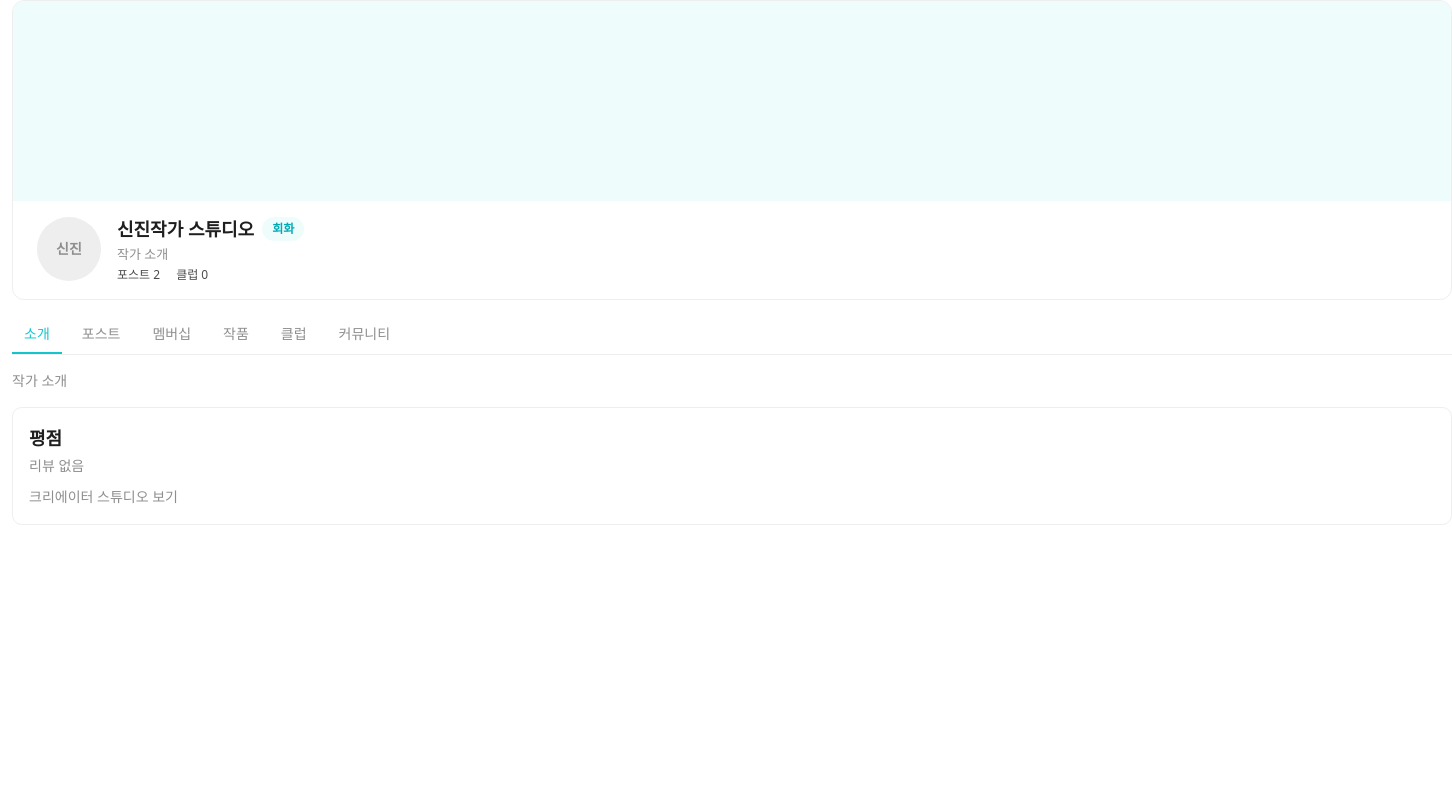
Test: /creators/[creatorId] (AC-002, AC-003, AC-007) › renders artworks tab and purchase form
Click the tab "작품". click: (236, 335)
box: [211,316,261,354]
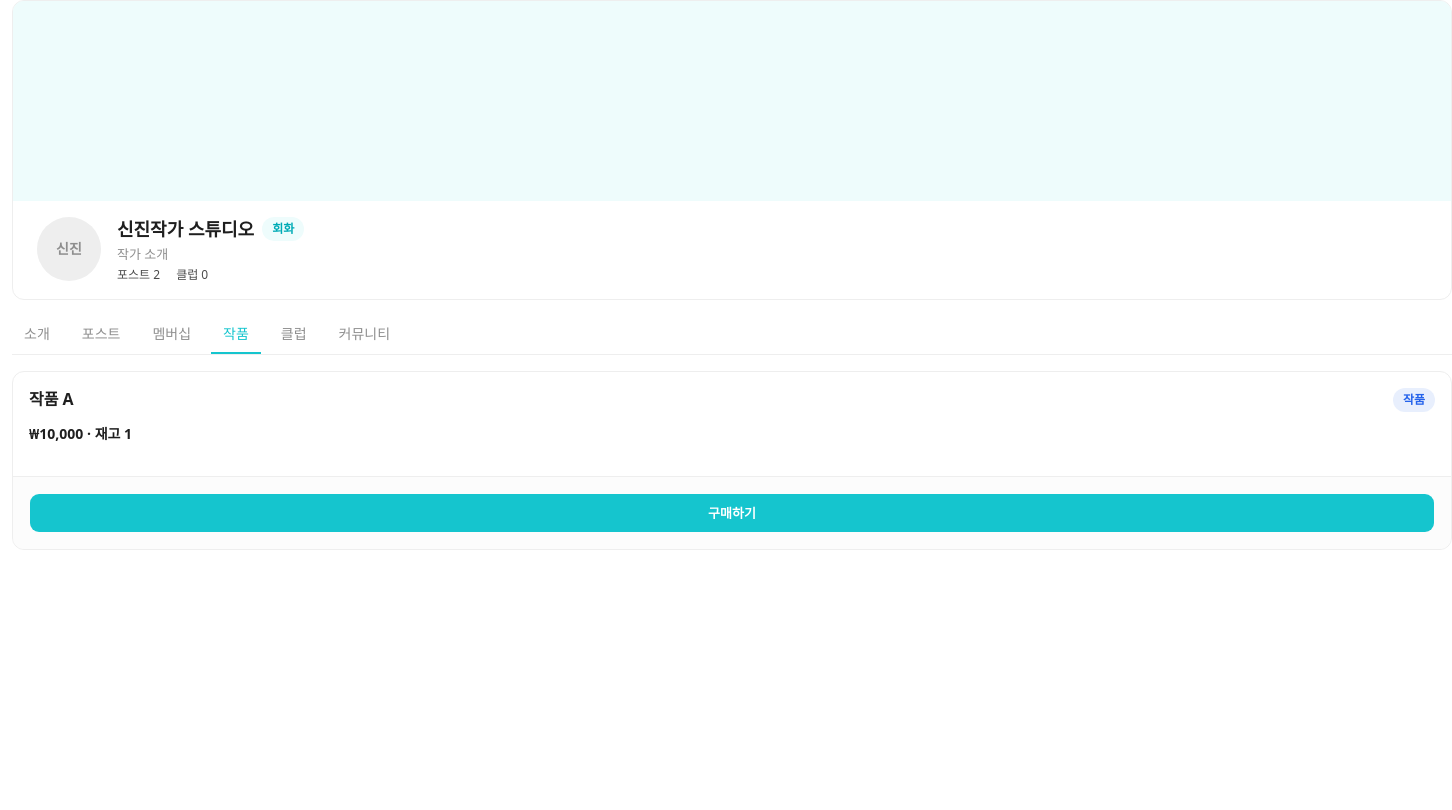
Now the text "작품 A" is shown, box [29,388,74,410]
